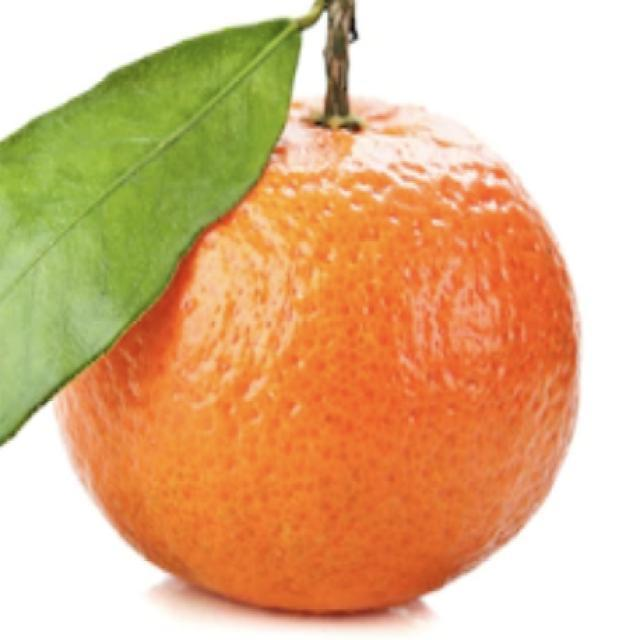Orange: (52, 93, 582, 616)
